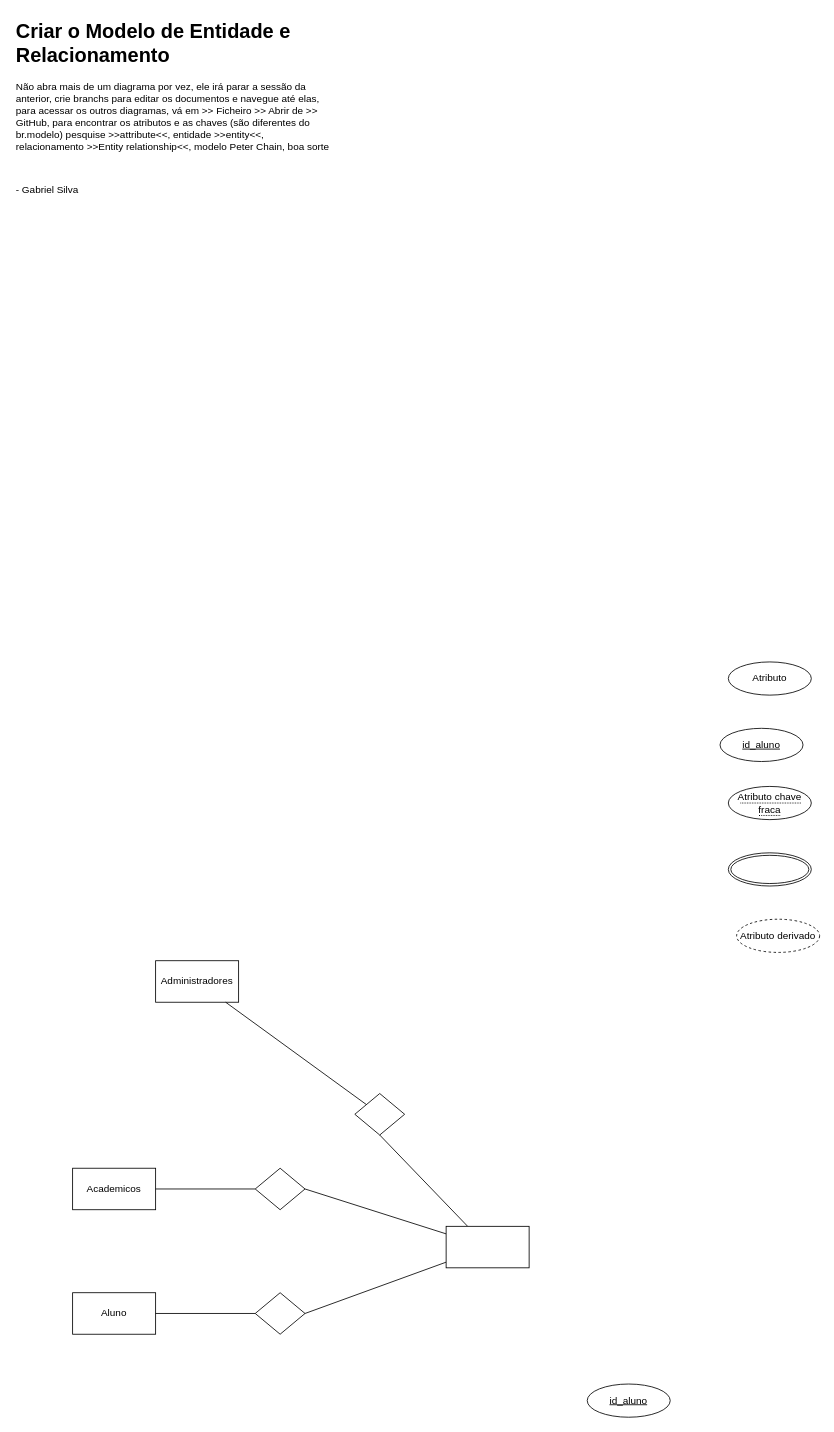
The diagram is 834 pixels wide and 1432 high, and some of its shapes have lost their labels. Here are the shapes that lost their labels. From the top down, the centre of each, then its label:
[769,869]: Atributo multivalorado
[487,1246]: Usuario
